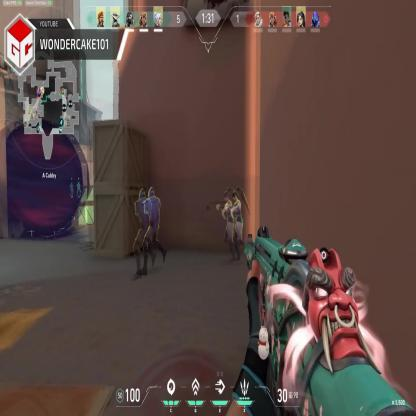enemy: (138, 184, 166, 275), (224, 186, 246, 262)
enemy_head: (147, 186, 154, 198), (232, 190, 238, 200)
